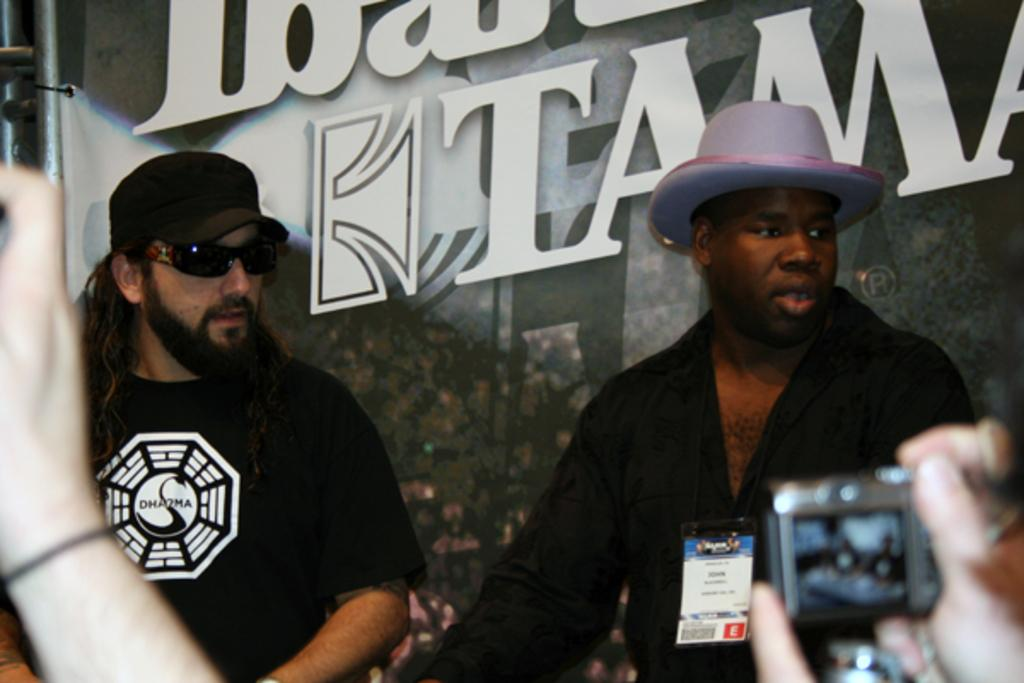Hat: (649, 95, 885, 258), (107, 150, 288, 252)
